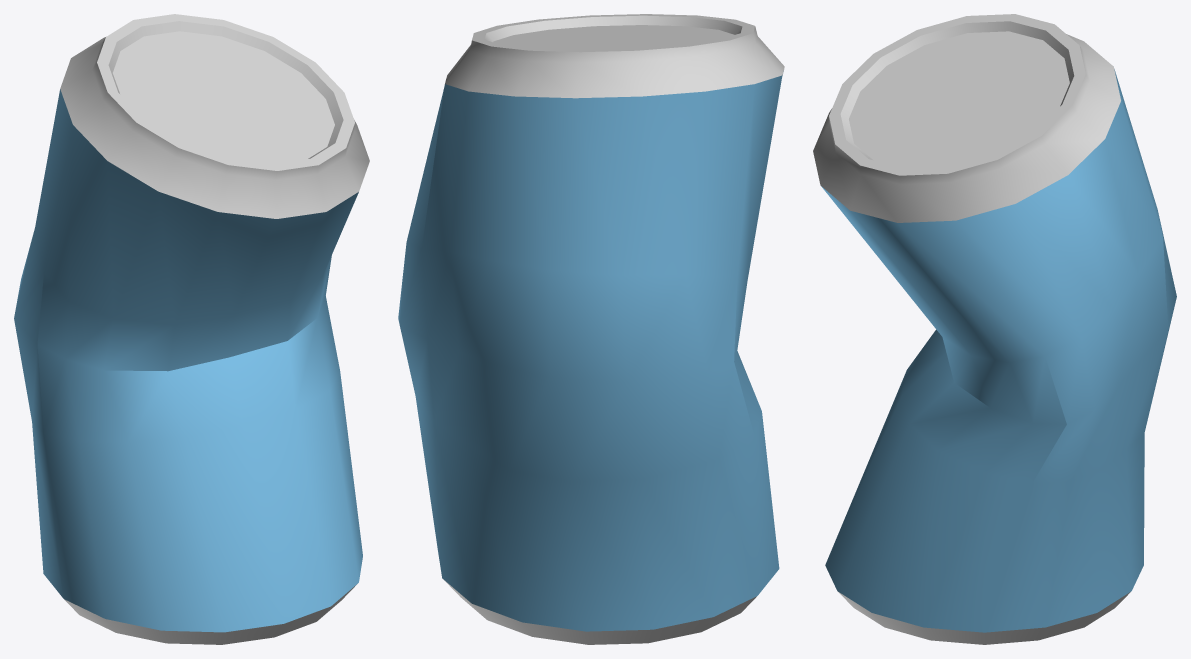
File: can empty.fbx
3 renders of one model, left to right at view 1: azimuth 30°, elevation 25°; view 2: azimuth 150°, elevation 25°; view 3: azimuth 270°, elevation 25°, orthographic. The views are drawn at different scales.
Visible parts, largest first — view 1: Can Empty; view 2: Can Empty; view 3: Can Empty.
Boxes of the visible parts, <box> form: Can Empty: <box>14,14,369,644</box>; Can Empty: <box>398,14,784,644</box>; Can Empty: <box>813,14,1176,644</box>.
Size of the model in its own units: 12.76 by 21.61 by 13.41.
